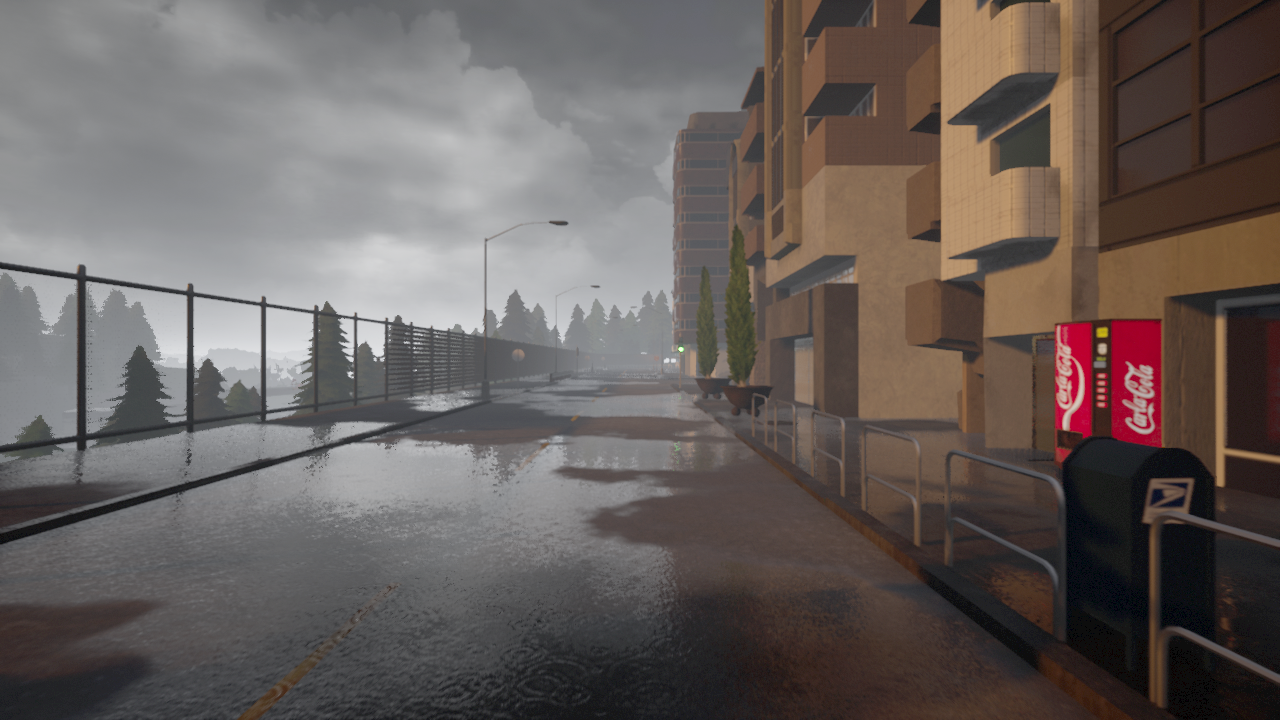green: (678, 336, 684, 352)
